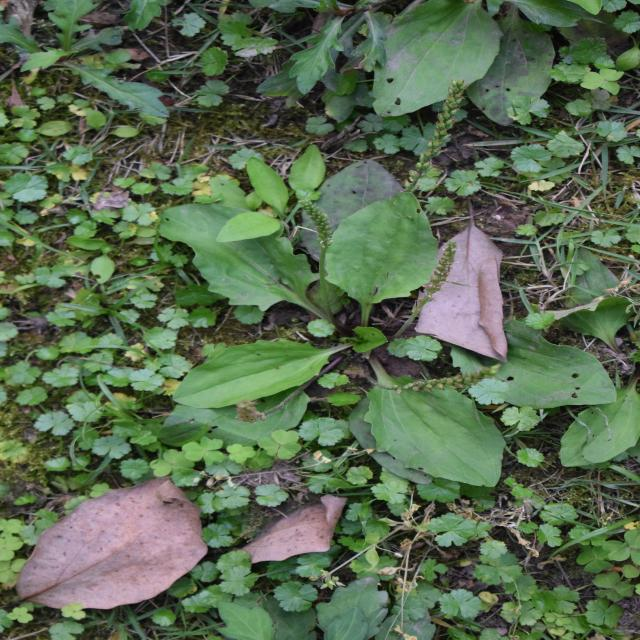plantain: (154, 160, 445, 474)
